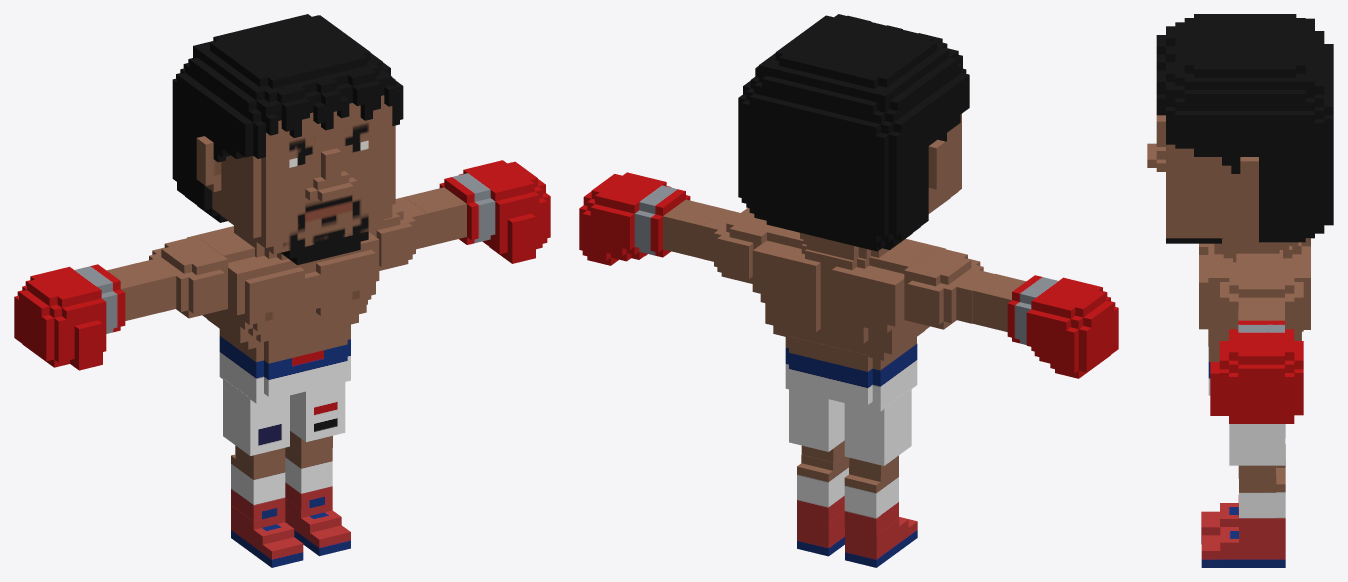
Rendered from flash.fbx.
3 renders of one model, left to right at view 1: azimuth 30°, elevation 25°; view 2: azimuth 150°, elevation 25°; view 3: azimuth 270°, elevation 25°, orthographic. The views are drawn at different scales.
Parts seen in each view (by area): view 1: HEAD-Local.001; view 2: HEAD-Local.001; view 3: HEAD-Local.001.
Boxes of the visible parts, x1,y1,x2,y2 form: HEAD-Local.001: [14, 14, 550, 567]; HEAD-Local.001: [579, 14, 1118, 567]; HEAD-Local.001: [1147, 14, 1333, 567].
Bounding box in the file's own units: 640 × 599 × 200.
Materials: 1 (1 with a texture image).
